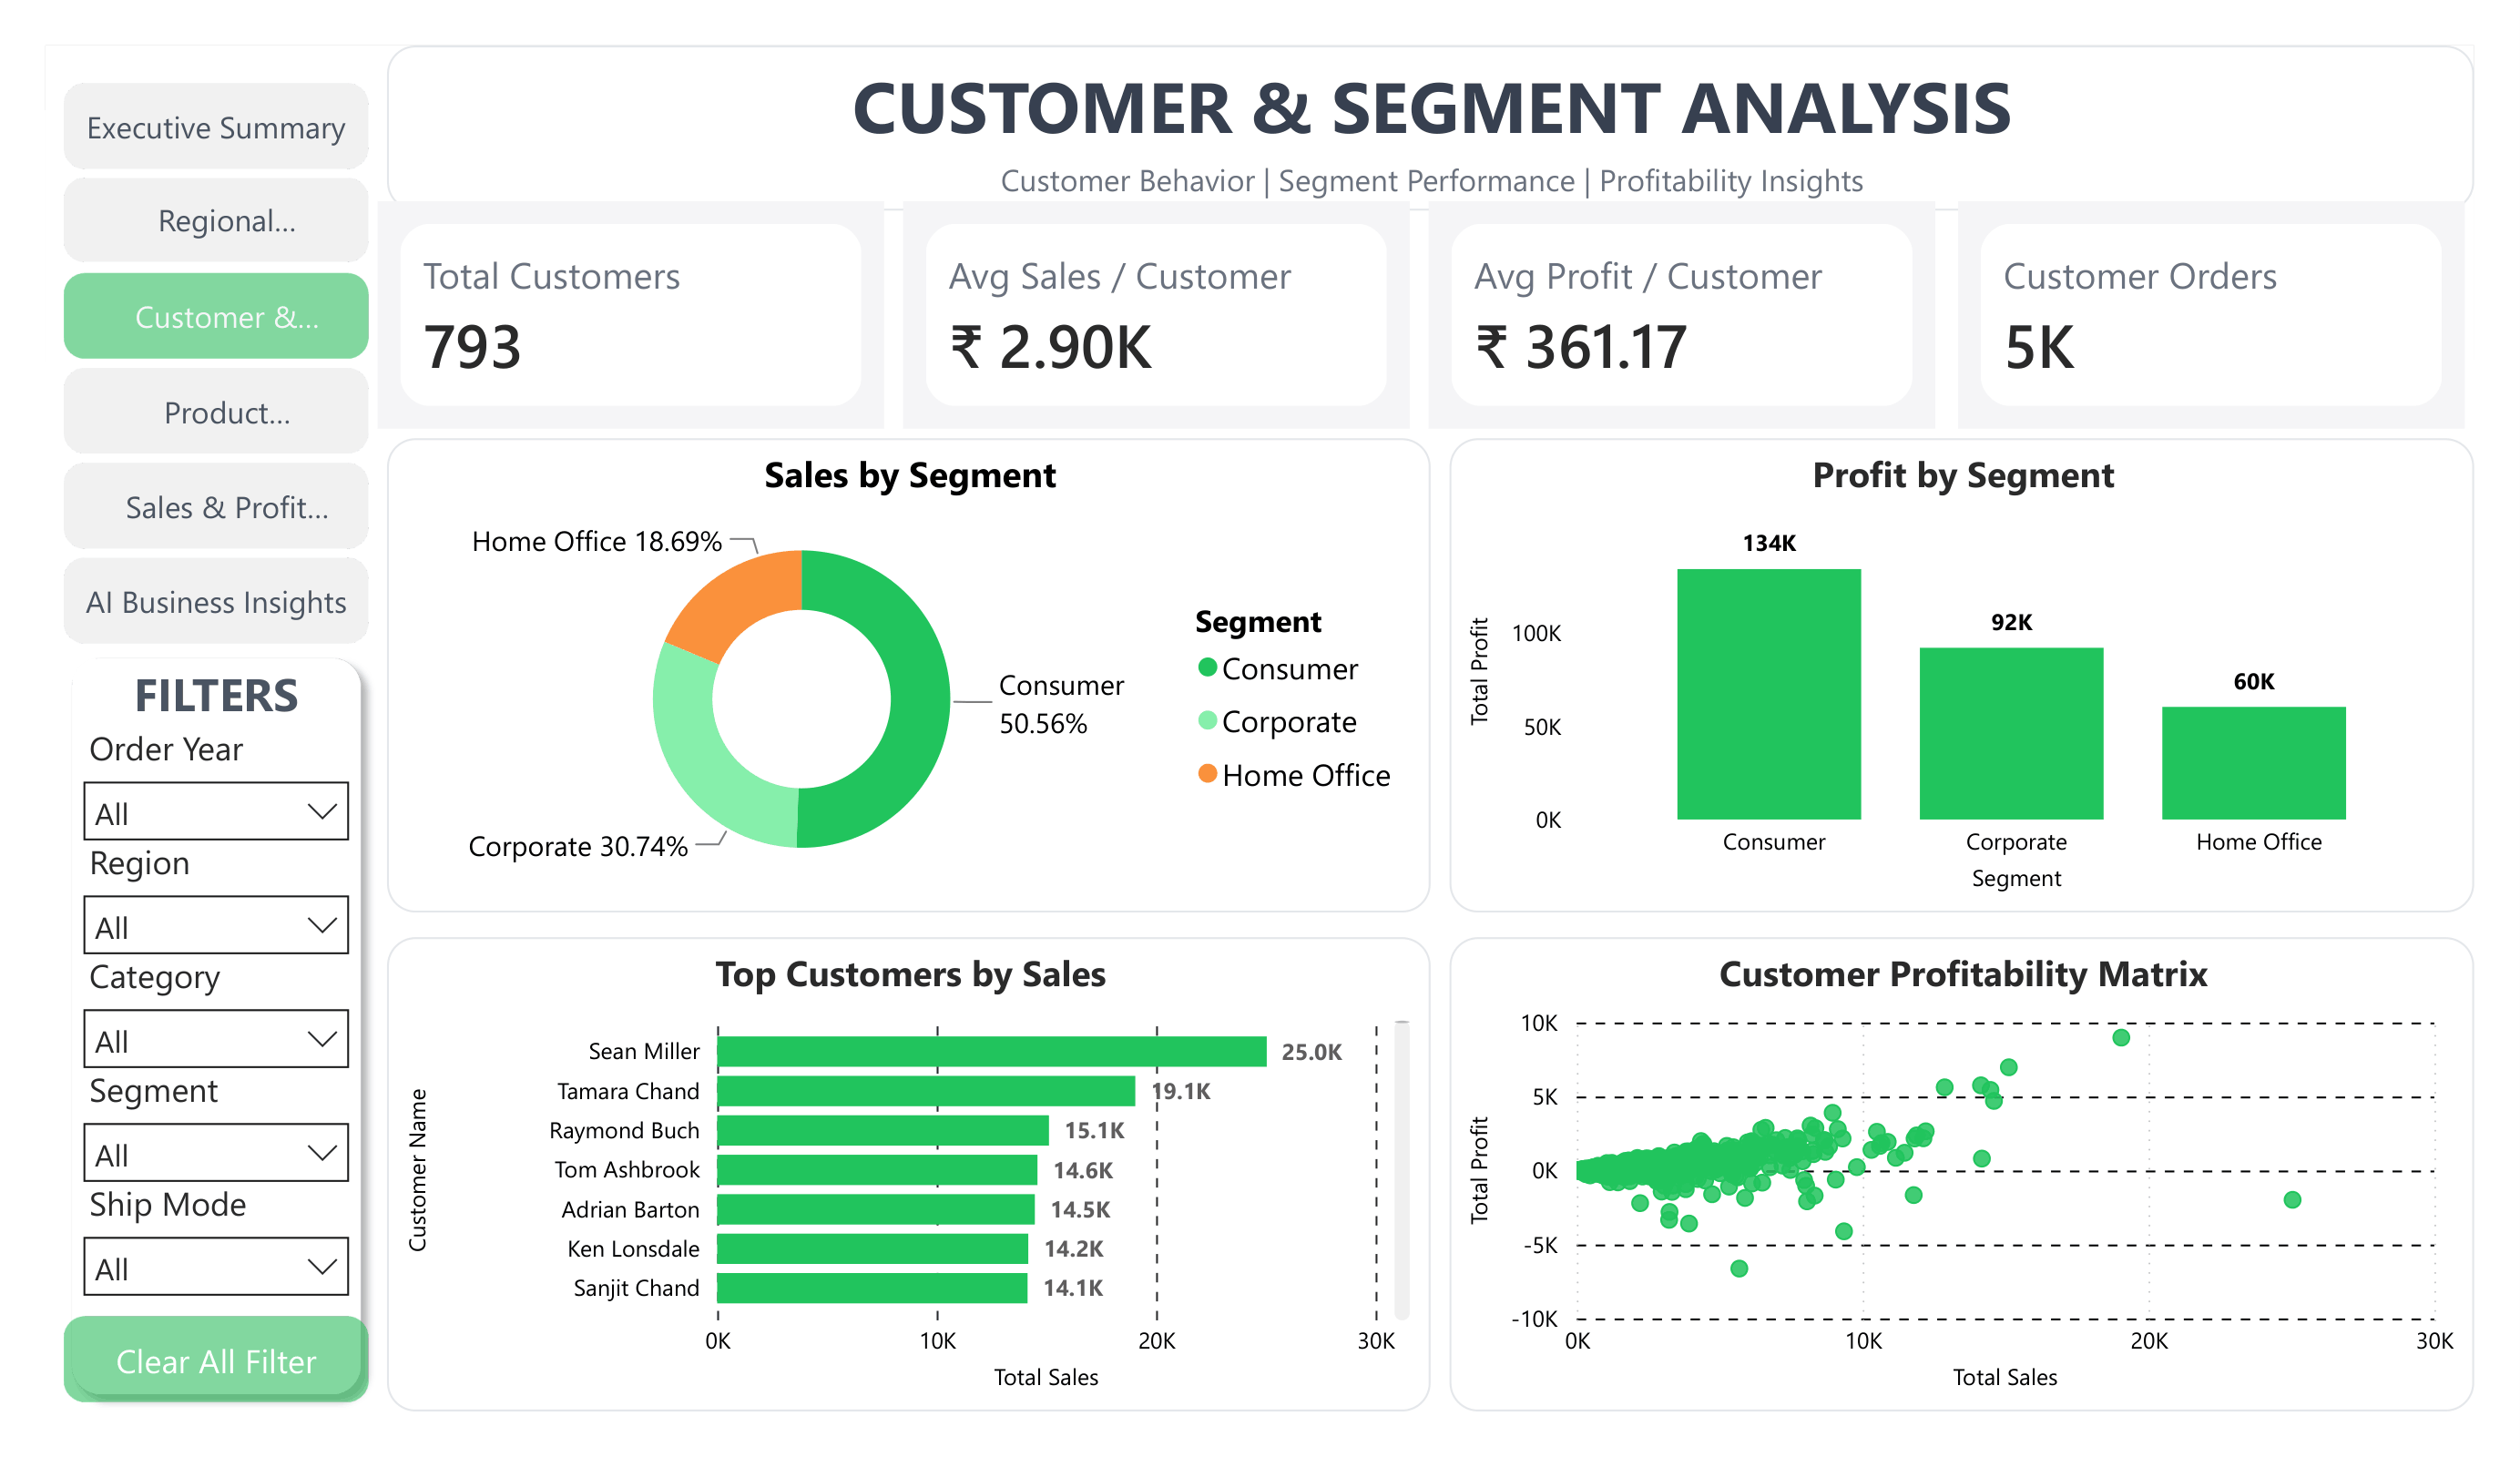

Layout of this report page (visuals, bound fields, positions):
{"tool":"powerbi","page":{"name":"Customer & Segment Analysis","canvas":[1280,720],"ordinal":2},"visuals":[{"type":"textbox","title":"CUSTOMER & SEGMENT ANALYSIS","box":[180,0,1100,87.1],"z":0},{"type":"shape","box":[0,0,180,720],"z":1000},{"type":"actionButton","box":[10,70,160,44.3],"z":2000},{"type":"actionButton","box":[10,120,160,45],"z":3000},{"type":"actionButton","box":[10,170,160,45],"z":4000},{"type":"actionButton","box":[10,220,160,45],"z":5000},{"type":"actionButton","box":[10,270,160,45],"z":6000},{"type":"actionButton","box":[10,20,160,45],"z":7000},{"type":"shape","box":[5,314.3,170,405.7],"z":8000},{"type":"actionButton","box":[10,670,160,45],"z":9000},{"type":"slicer","fields":{"Values":["cleaned_superstore.Region"]},"box":[10,412.9,160,70],"z":10000},{"type":"slicer","fields":{"Values":["cleaned_superstore.Category"]},"box":[10,472.9,160,70],"z":11000},{"type":"slicer","fields":{"Values":["cleaned_superstore.Ship Mode"]},"box":[10,592.9,160,70],"z":12000},{"type":"slicer","fields":{"Values":["cleaned_superstore.Segment"]},"box":[10,532.9,160,70],"z":13000},{"type":"slicer","fields":{"Values":["cleaned_superstore.Order Year"]},"box":[10,352.9,160,70],"z":14000},{"type":"textbox","box":[10,320,160,46],"z":15000},{"type":"barChart","title":"Top Customers by Sales","fields":{"Y":["Measures_table.Total Sales"],"Category":["cleaned_superstore.Customer Name"]},"box":[180,470,550,250],"z":16000},{"type":"clusteredColumnChart","title":"Profit by Segment","fields":{"Y":["Measures_table.Total Profit"],"Category":["cleaned_superstore.Segment"]},"box":[740,207.1,540,250],"z":17000},{"type":"donutChart","title":"Sales by Segment","fields":{"Y":["Measures_table.Total Sales"],"Category":["cleaned_superstore.Segment"]},"box":[180,207.1,550,250],"z":18000},{"type":"scatterChart","title":"Customer Profitability Matrix","fields":{"X":["Measures_table.Total Sales"],"Y":["Measures_table.Total Profit"],"Category":["cleaned_superstore.Customer Name"]},"box":[740,470,540,250],"z":19000},{"type":"cardVisual","fields":{"Data":["Measures_table.Total Customers"]},"box":[170,77.1,277,130],"z":20000},{"type":"cardVisual","fields":{"Data":["Measures_table.Average Sales per Customer"]},"box":[447.1,77.1,277.1,130],"z":21000},{"type":"cardVisual","fields":{"Data":["Measures_table.Average Profit per Customer"]},"box":[724.3,77.1,277.1,130],"z":22000},{"type":"cardVisual","fields":{"Data":["Measures_table.Total Orders"]},"box":[1002.9,77.1,277.1,130],"z":23000}]}

Visuals, with their boxes on the page's 1280x720 design canvas (x1, y1, x2, y2). These are canvas units, not pixel positions in the 2520x1457 screenshot, which may show the page scaled, cropped or inside an application window:
"CUSTOMER & SEGMENT ANALYSIS" textbox: 180/0/1280/87
shape: 0/0/180/720
actionButton: 10/70/170/114
actionButton: 10/120/170/165
actionButton: 10/170/170/215
actionButton: 10/220/170/265
actionButton: 10/270/170/315
actionButton: 10/20/170/65
shape: 5/314/175/720
actionButton: 10/670/170/715
slicer - cleaned_superstore.Region: 10/413/170/483
slicer - cleaned_superstore.Category: 10/473/170/543
slicer - cleaned_superstore.Ship Mode: 10/593/170/663
slicer - cleaned_superstore.Segment: 10/533/170/603
slicer - cleaned_superstore.Order Year: 10/353/170/423
textbox: 10/320/170/366
"Top Customers by Sales" barChart: 180/470/730/720
"Profit by Segment" clusteredColumnChart: 740/207/1280/457
"Sales by Segment" donutChart: 180/207/730/457
"Customer Profitability Matrix" scatterChart: 740/470/1280/720
cardVisual - Measures_table.Total Customers: 170/77/447/207
cardVisual - Measures_table.Average Sales per Customer: 447/77/724/207
cardVisual - Measures_table.Average Profit per Customer: 724/77/1001/207
cardVisual - Measures_table.Total Orders: 1003/77/1280/207
